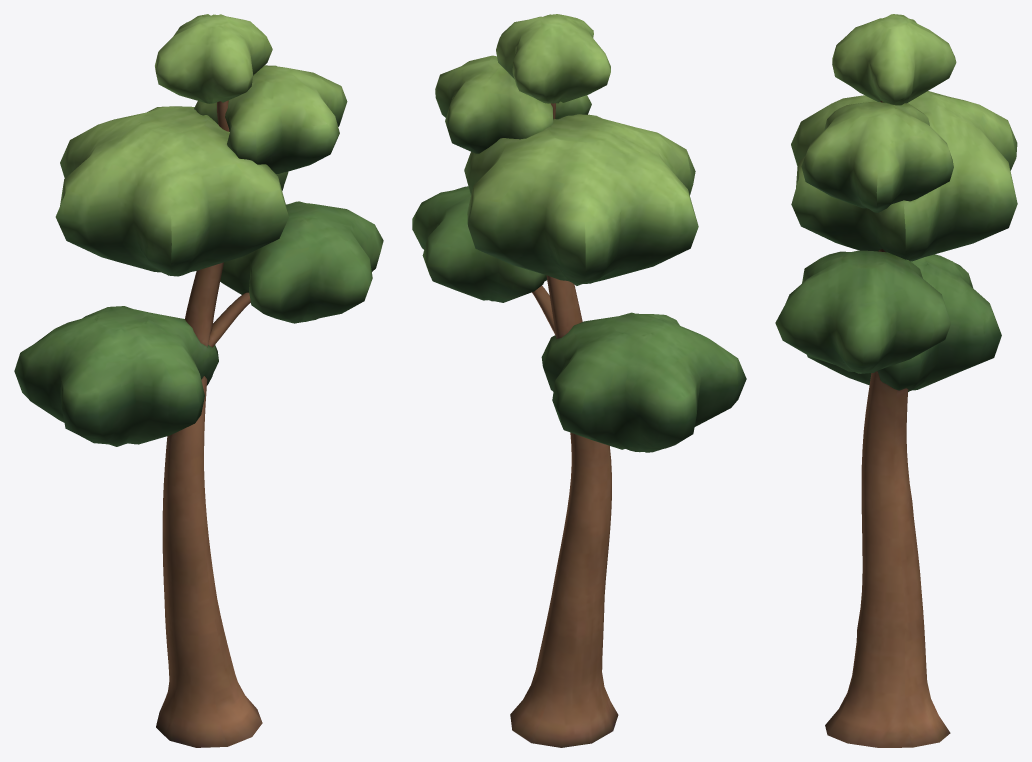
File: tree_b.glb
3 views of the same model, side by side, from view 1: azimuth 30°, elevation 25°; view 2: azimuth 150°, elevation 25°; view 3: azimuth 270°, elevation 25° (orthographic). The views are drawn at different scales.
Parts seen in each view (by area): view 1: TreeB; view 2: TreeB; view 3: TreeB.
Boxes of the visible parts, <box> form: TreeB: <box>14,14,383,747</box>; TreeB: <box>412,14,746,747</box>; TreeB: <box>775,14,1017,747</box>.
Size of the model in its own units: 1.61 by 3.35 by 1.02.
1 material, 1 textured.
